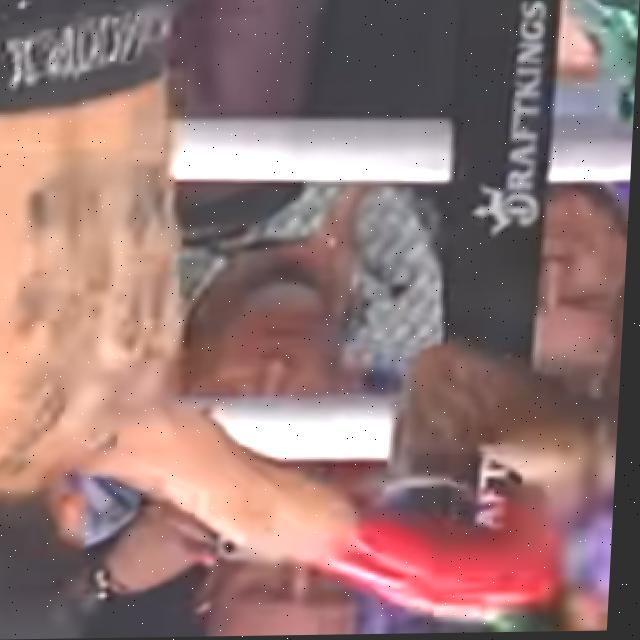Jab: (0, 10, 639, 640)
